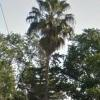Palm tree: (28, 1, 65, 96)
